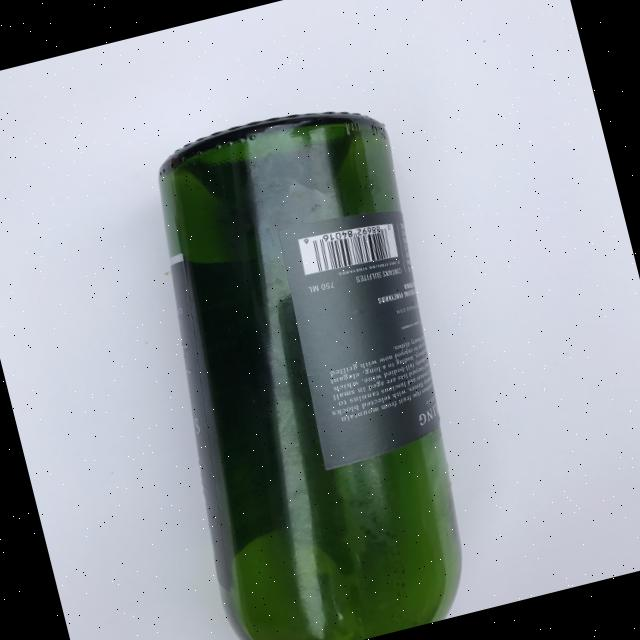glass: (109, 90, 504, 640)
